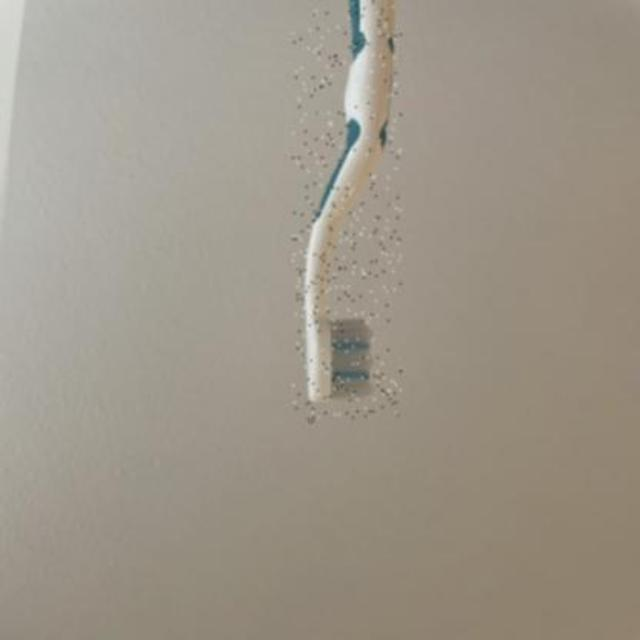toothbrush: (293, 1, 402, 422)
